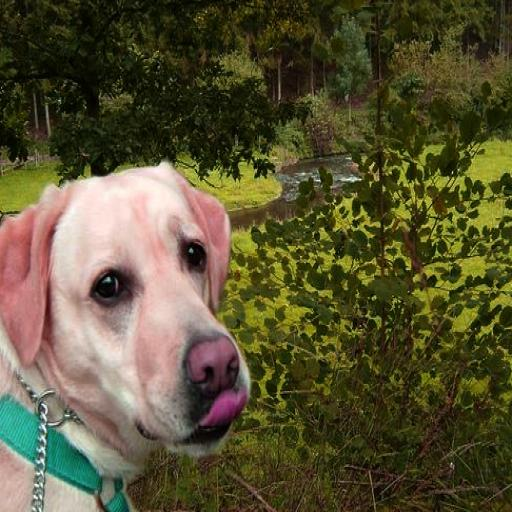dog_face: (0, 175, 255, 457)
